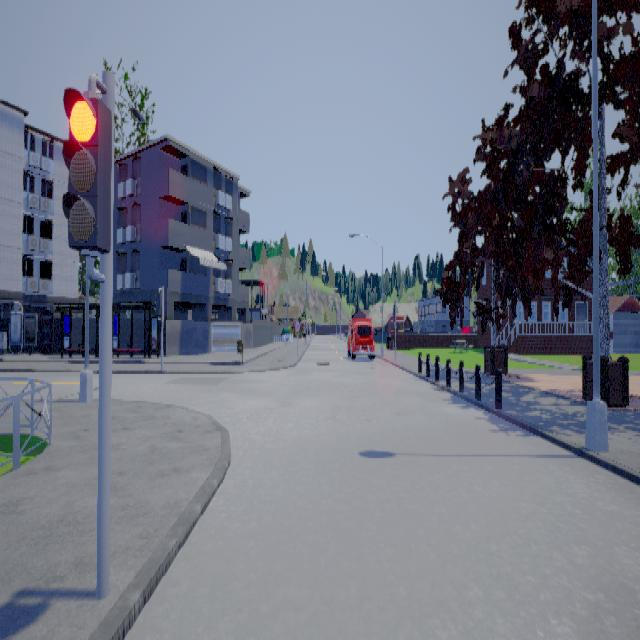red_light: (63, 72, 113, 282)
vehicle: (348, 316, 376, 358)
